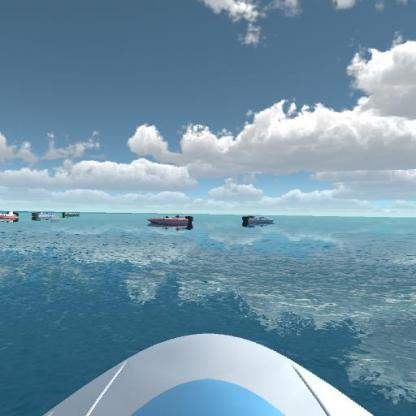usv0: (61, 210, 82, 219)
usv1: (240, 210, 277, 229), (29, 208, 57, 223)
usv3: (146, 212, 201, 234), (0, 206, 20, 225)
